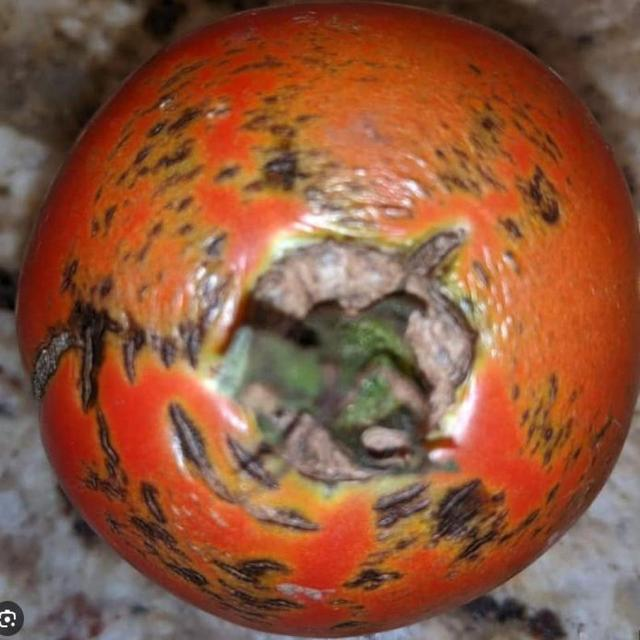Cracking Fruit: (41, 31, 375, 400)
